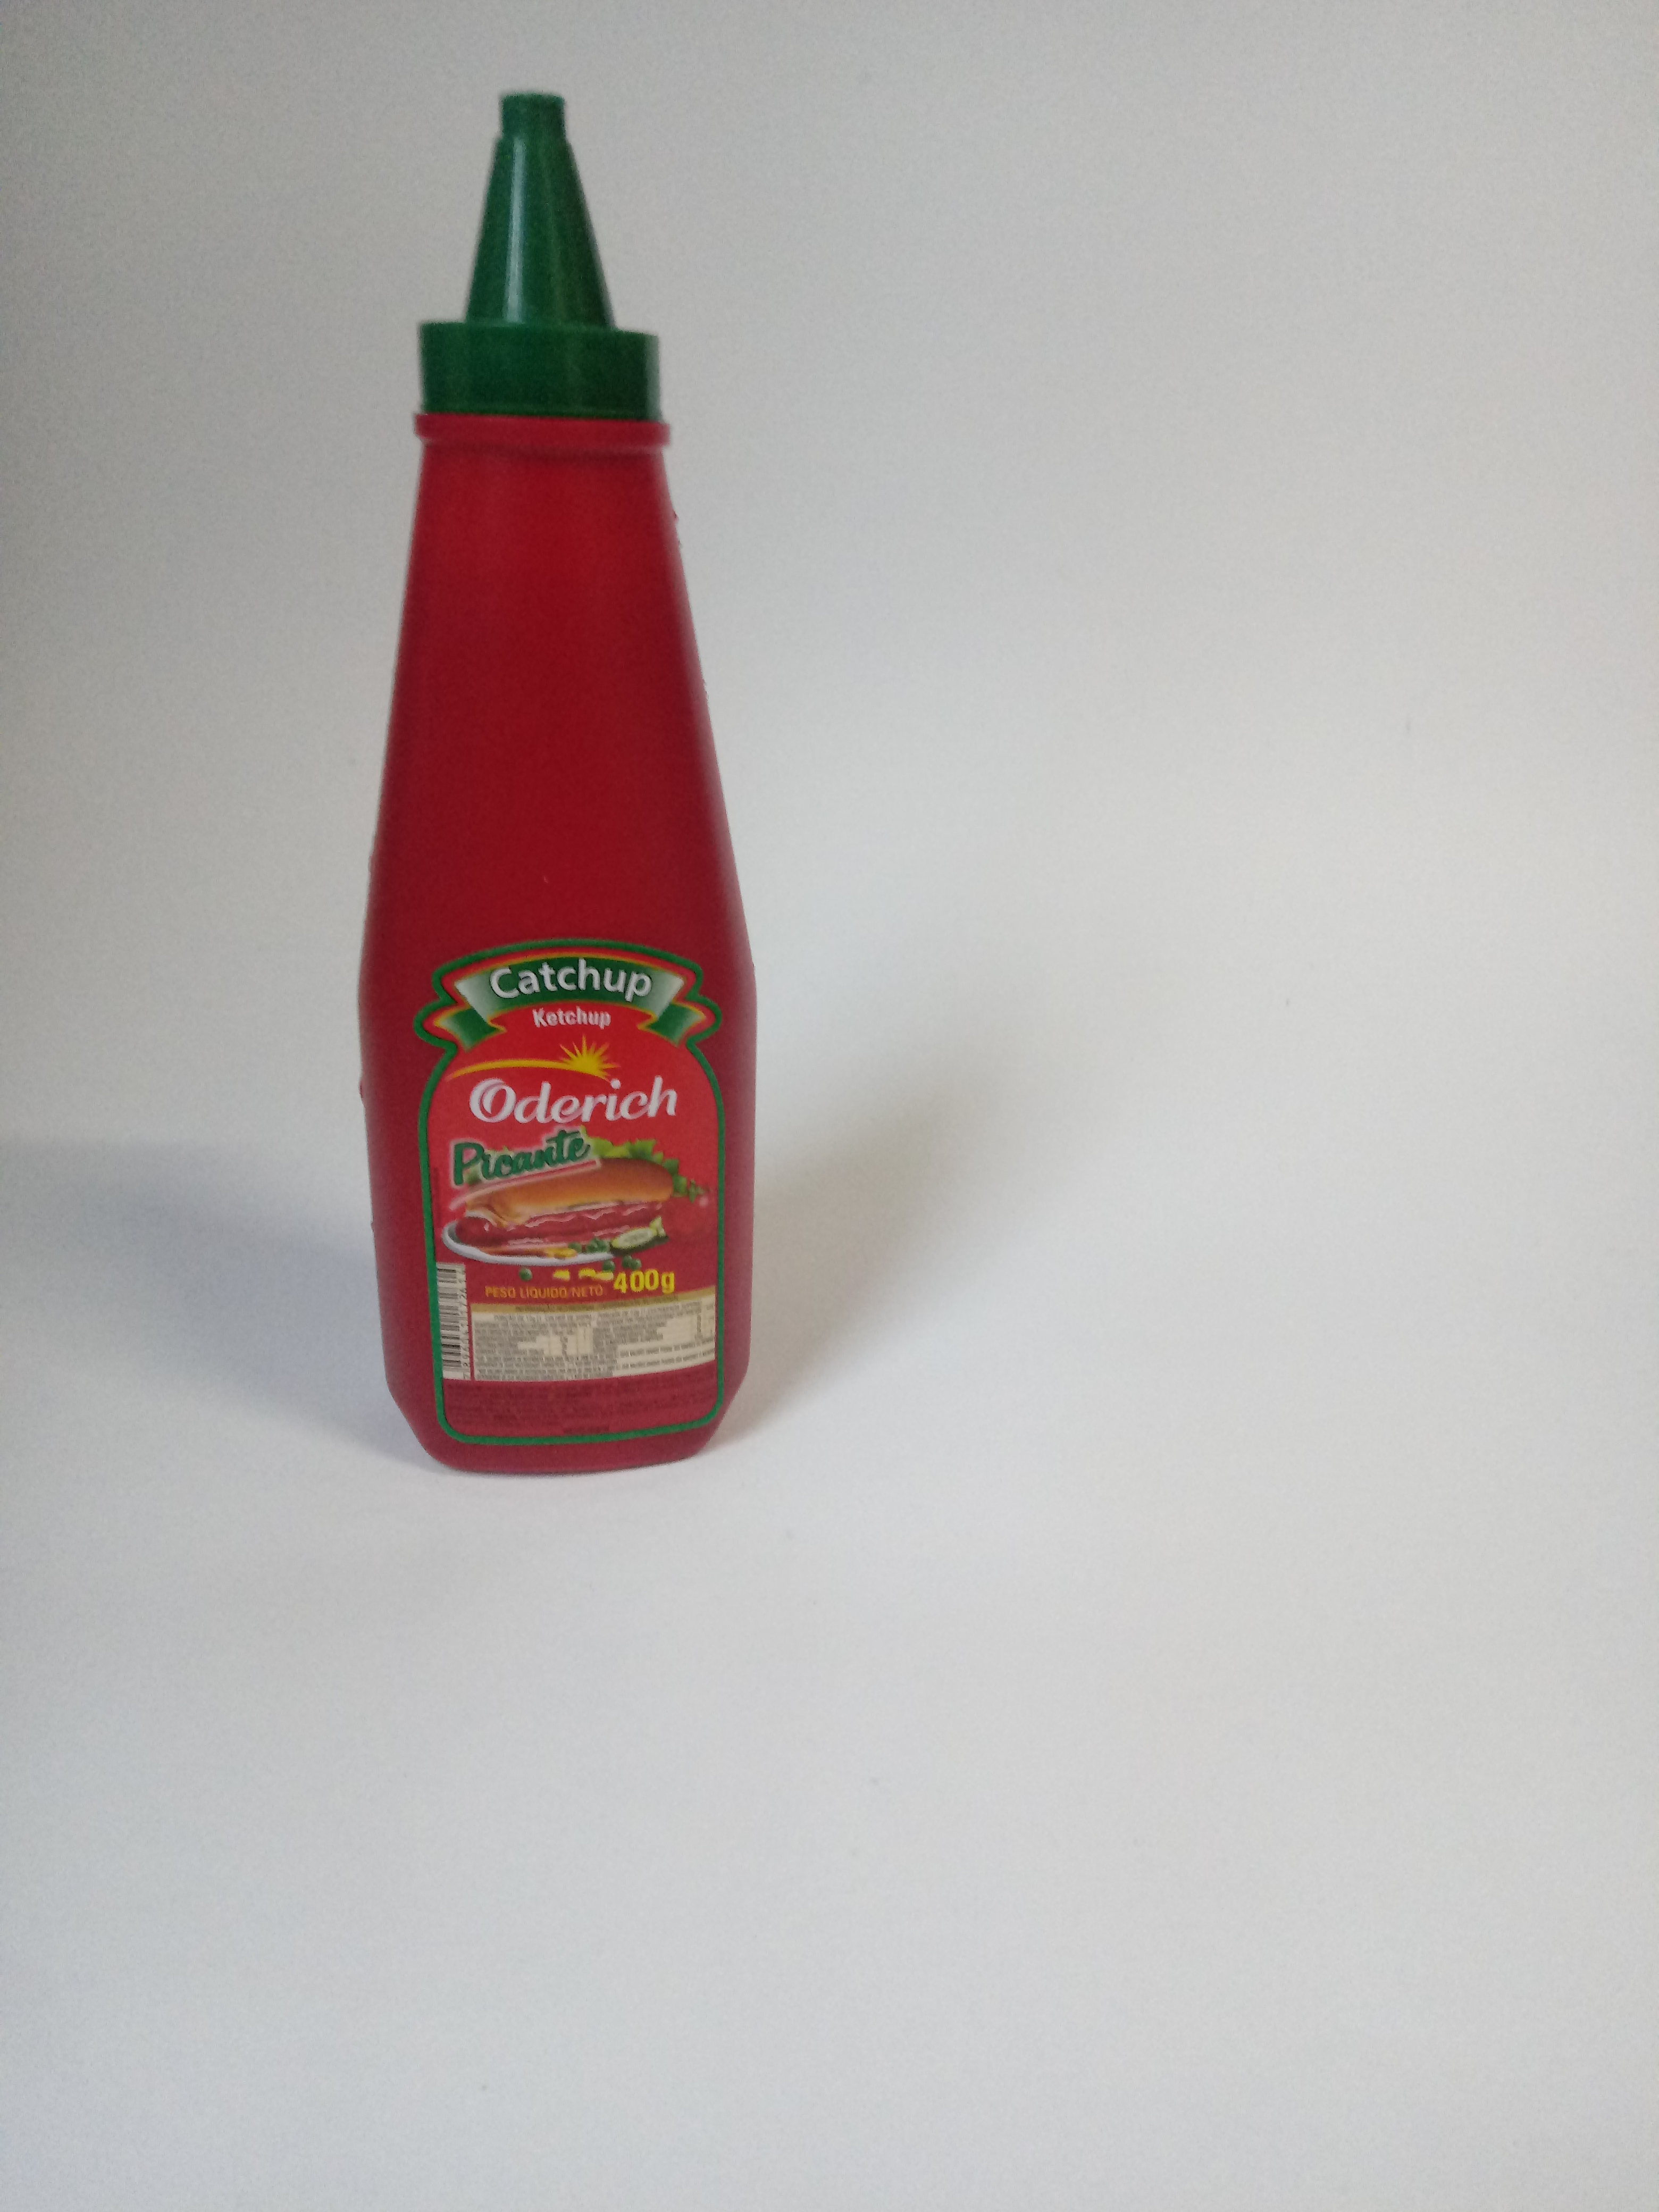catchup-oderich: (345, 51, 770, 1508)
